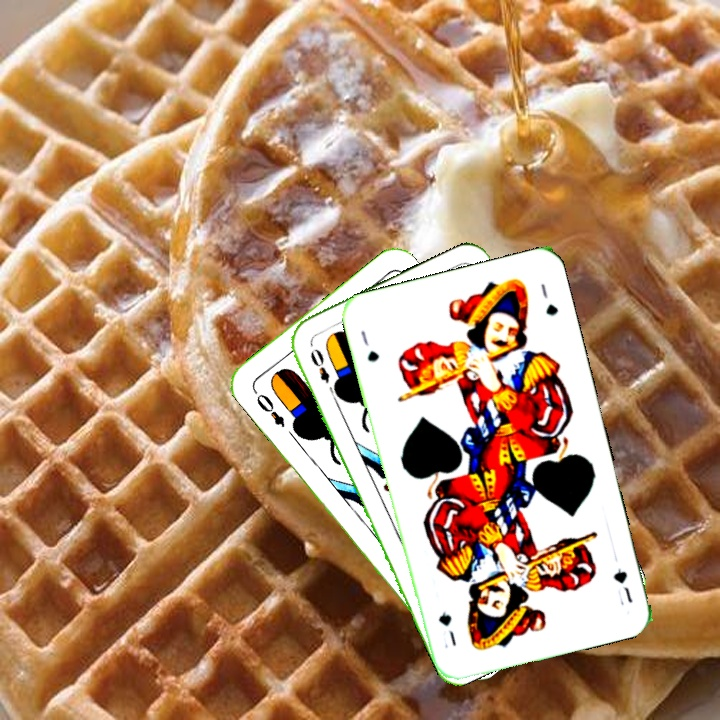EO: (306, 344, 339, 397), (252, 389, 288, 430)
GU: (609, 564, 636, 606), (356, 326, 382, 365)
